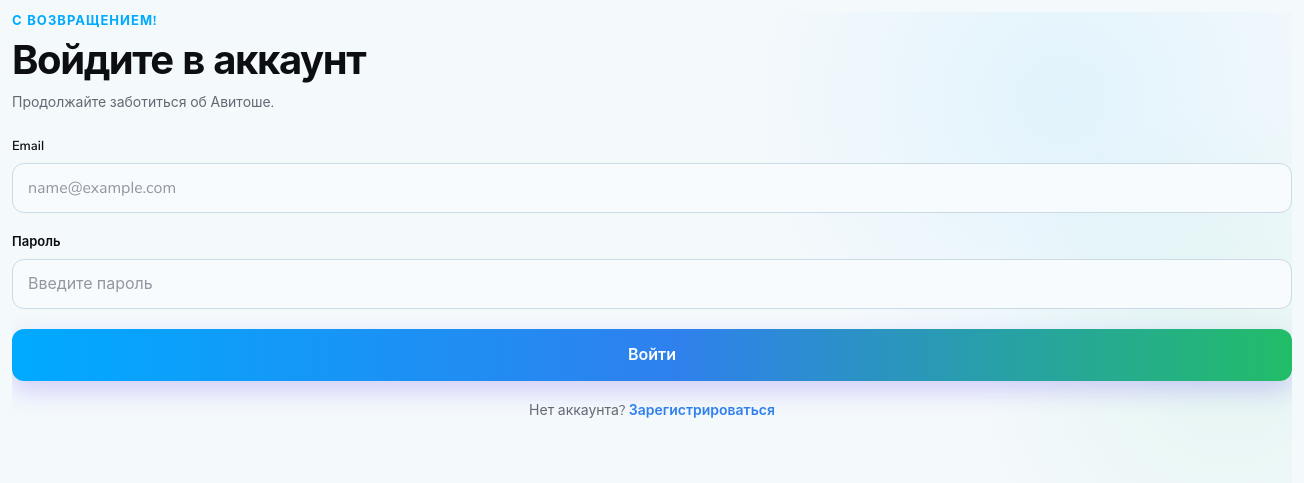
Scenario: LoginForm › validates the form before sending a request
Click the button "Войти": (652,355) x1=12 y1=329 x2=1292 y2=381
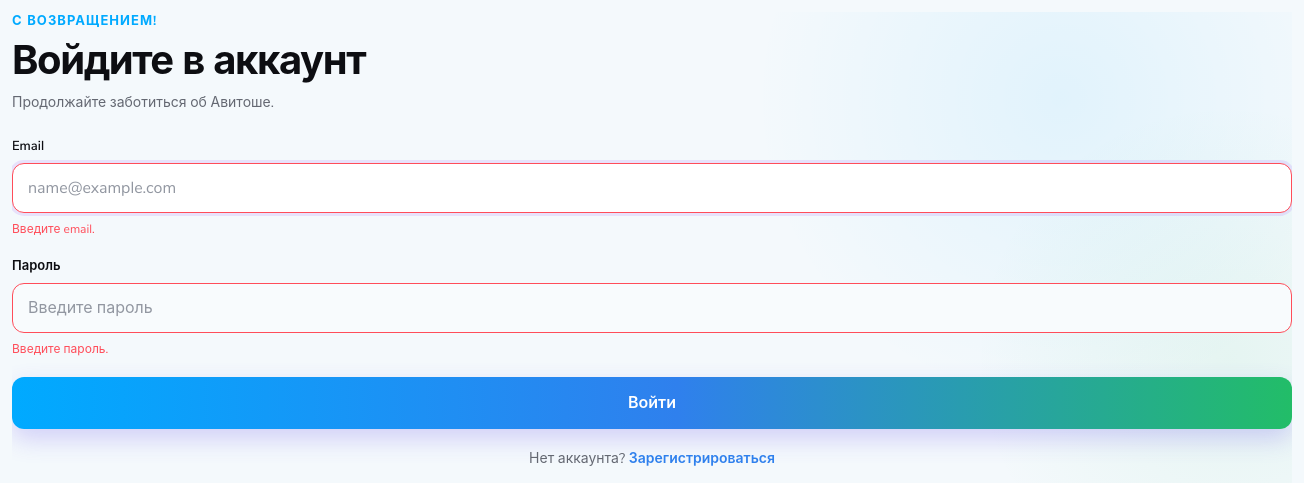
Expected: the text "Введите email." is shown, x1=12 y1=221 x2=95 y2=237
Expected: the text "Введите пароль." is shown, x1=12 y1=341 x2=108 y2=357
